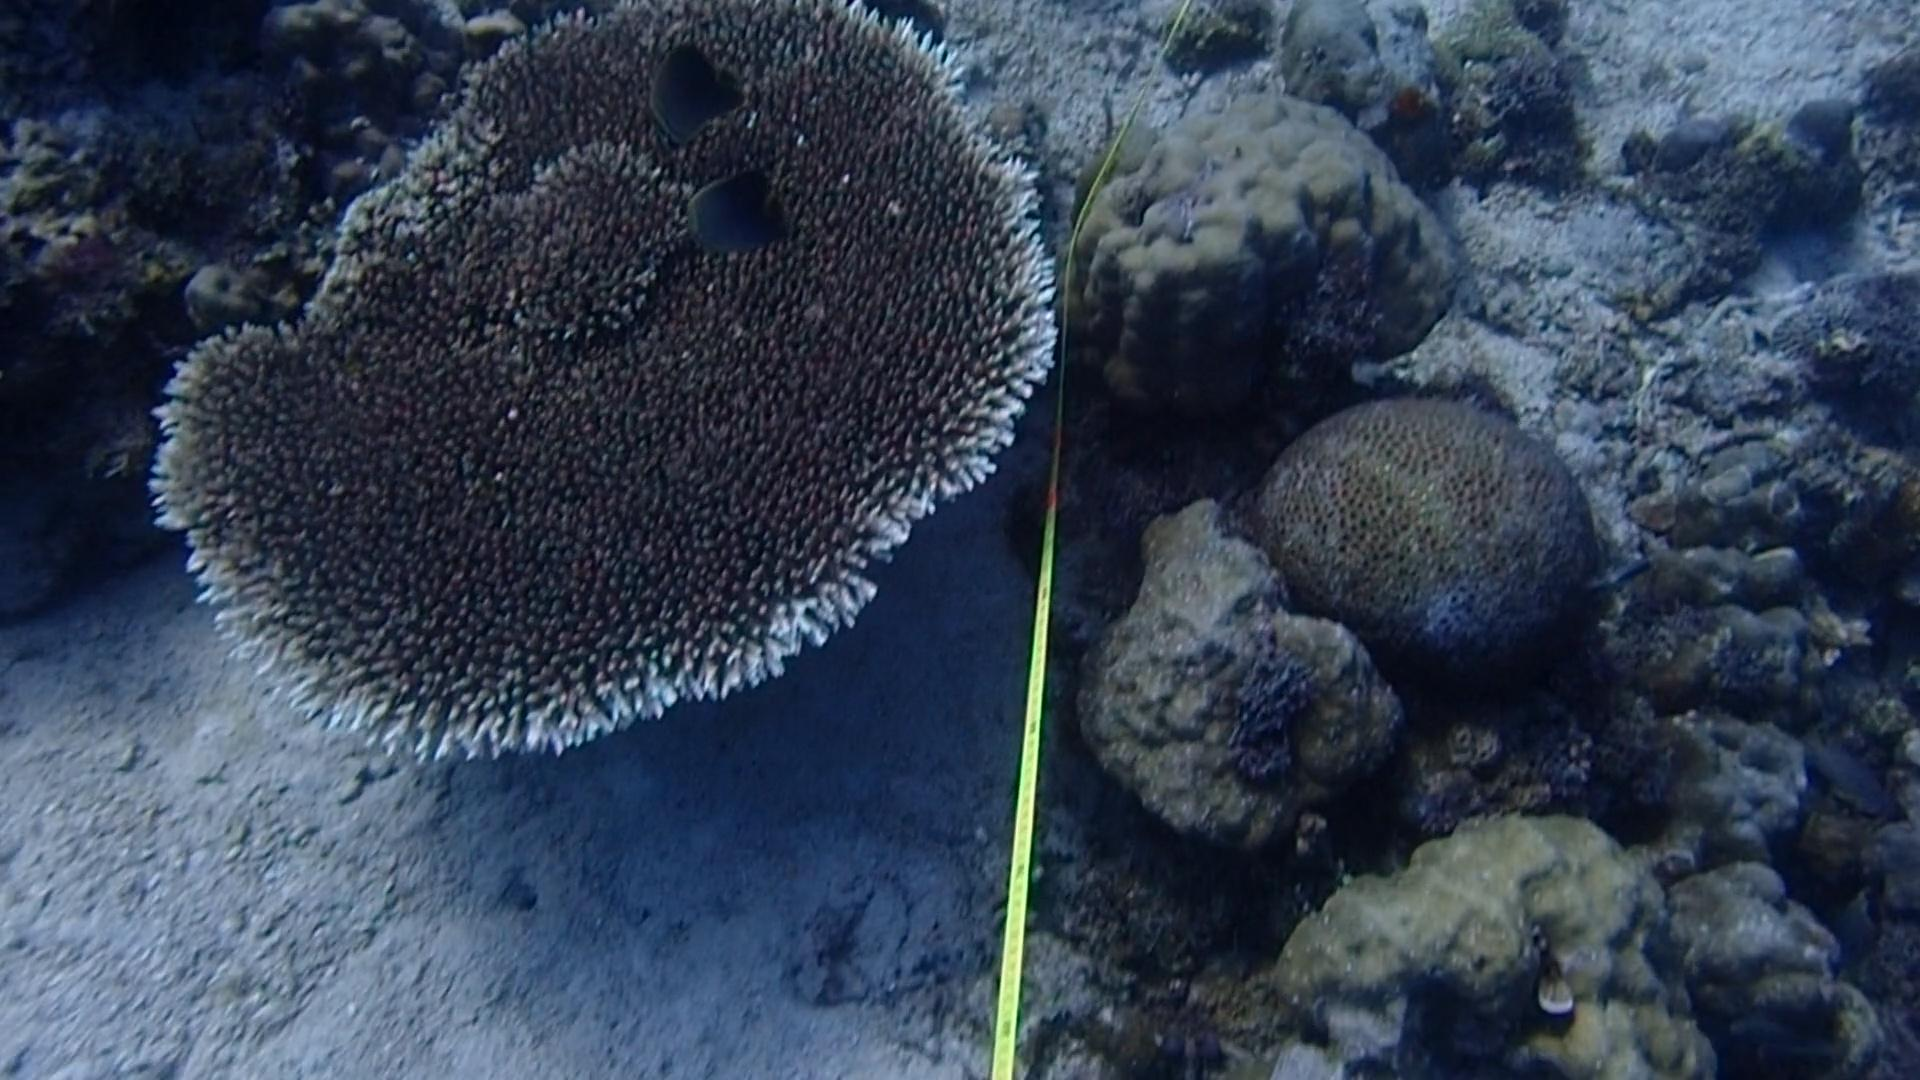Dark Blue Dory: (621, 20, 761, 140), (657, 165, 799, 253)
